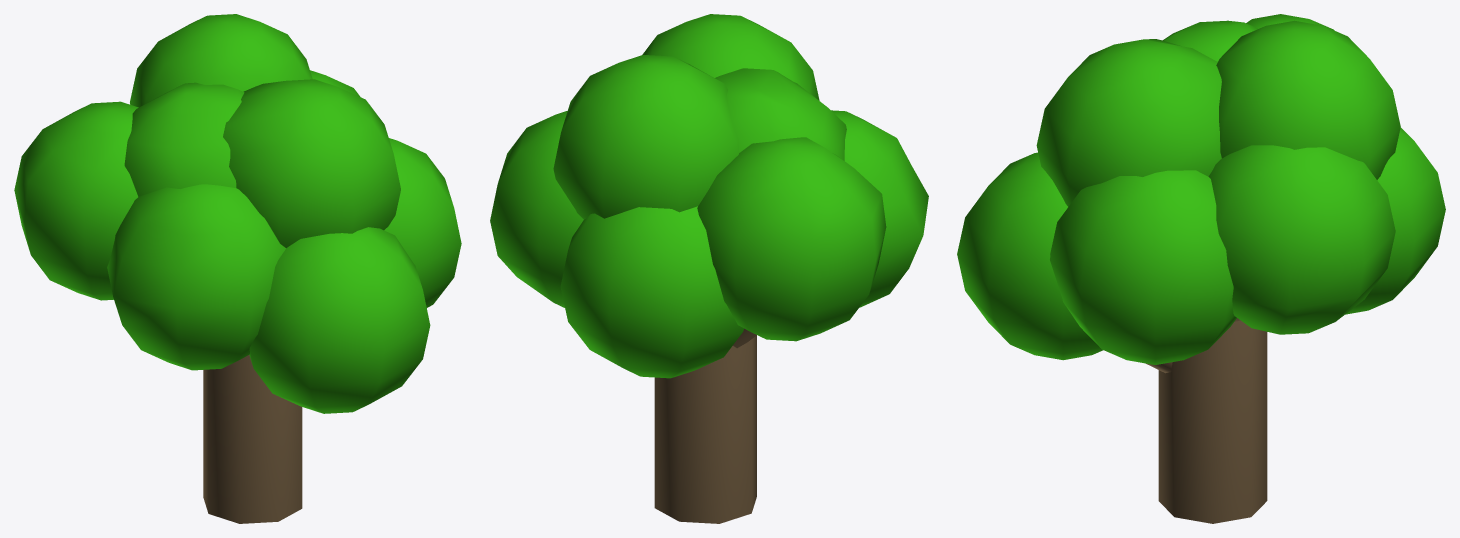
Rendered from Tree.fbx.
The picture shows the model from 3 angles, left to right: view 1: azimuth 30°, elevation 25°; view 2: azimuth 150°, elevation 25°; view 3: azimuth 270°, elevation 25°; orthographic projection. The views are drawn at different scales.
Visible parts, largest first — view 1: Tree; view 2: Tree; view 3: Tree.
Part boxes in pixels (bbox=[...]): Tree: bbox=[14, 14, 461, 523]; Tree: bbox=[490, 14, 928, 523]; Tree: bbox=[957, 14, 1445, 523].
Bounding box in the file's own units: 8.92 × 10.4 × 9.67.
